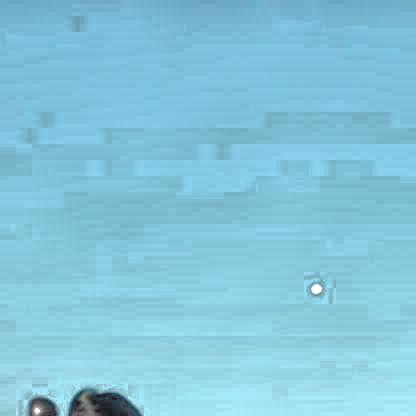golfball: (306, 278, 321, 293)
